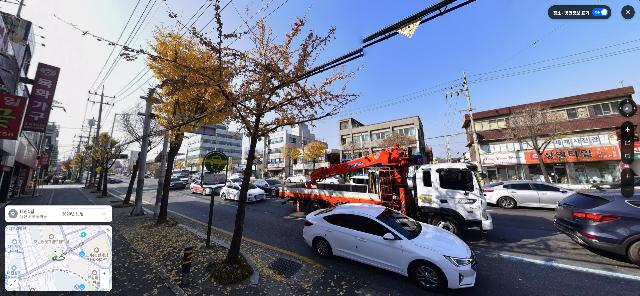ginkgo: (143, 9, 234, 224), (303, 138, 328, 177), (284, 148, 300, 176)
other: (232, 14, 356, 293), (500, 106, 584, 184), (111, 109, 164, 204), (86, 129, 127, 193)
